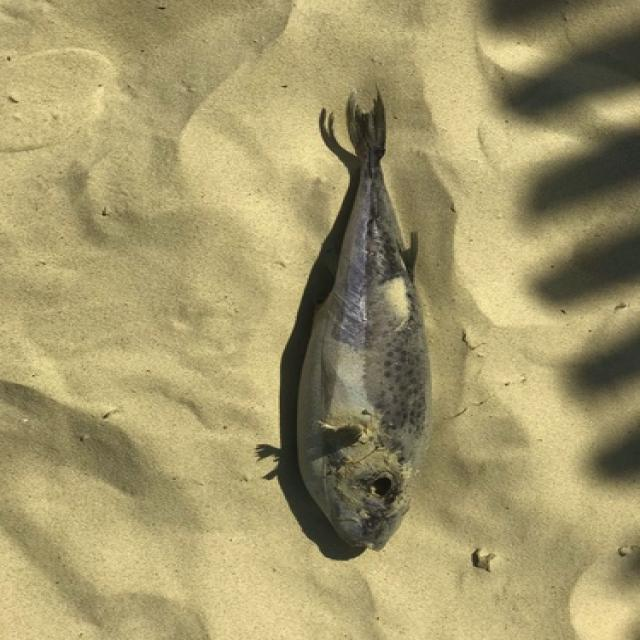Balik: (297, 94, 430, 550)
